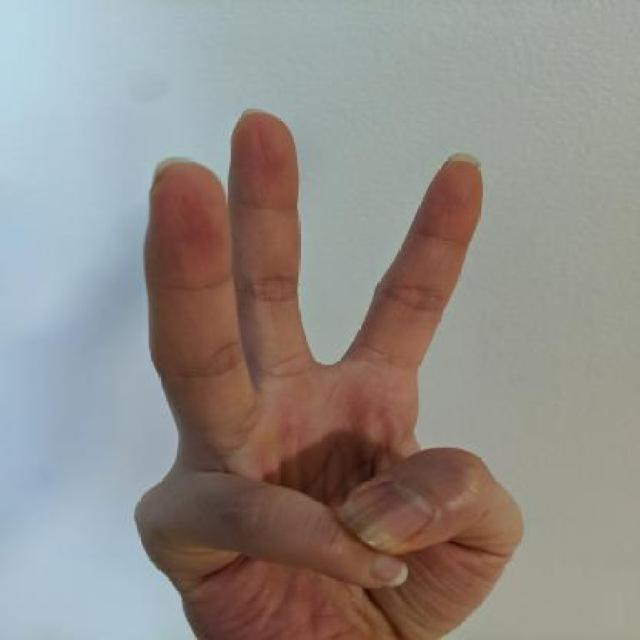W: (129, 92, 526, 640)
